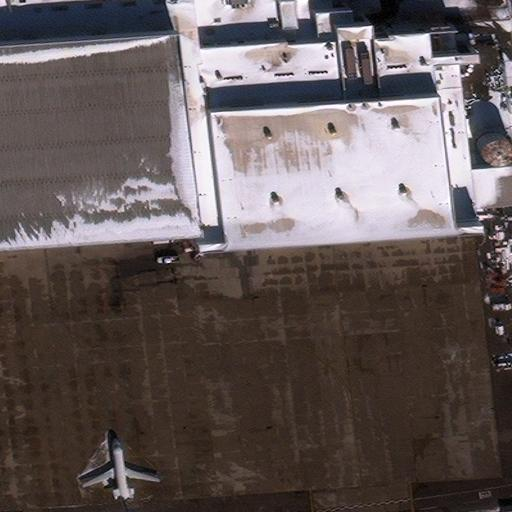Medium Civil Transport: (84, 439, 156, 512)
